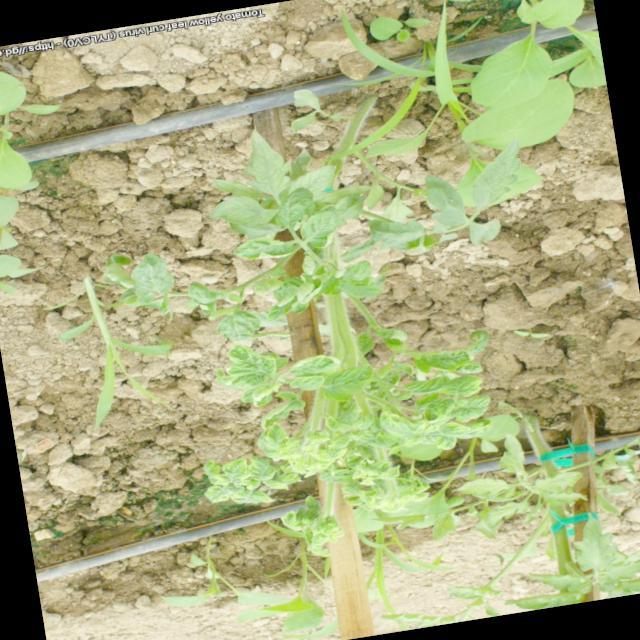Tomato yellow virus leaf: (297, 202, 353, 253), (378, 403, 432, 452), (220, 340, 280, 384), (411, 343, 479, 378), (320, 364, 378, 405), (232, 232, 296, 266), (258, 399, 308, 430), (288, 353, 343, 381), (238, 382, 286, 412), (440, 372, 486, 401), (348, 454, 394, 482), (401, 373, 451, 398), (454, 394, 494, 424), (230, 484, 276, 508), (222, 456, 254, 488), (246, 452, 278, 483), (202, 458, 230, 490), (288, 373, 328, 395), (202, 482, 234, 506), (438, 418, 473, 439), (279, 508, 305, 534), (326, 430, 358, 451), (262, 421, 288, 446), (432, 431, 458, 452), (262, 476, 290, 494), (274, 388, 300, 405)
